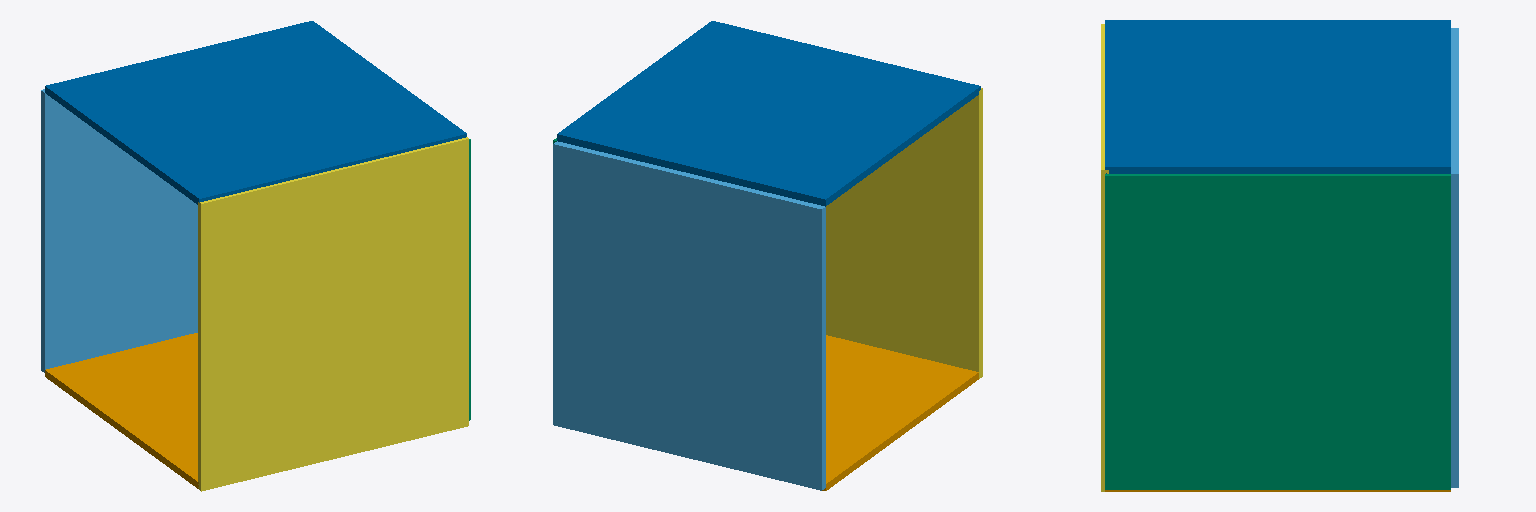
The robot description file, URDF, robot "hollow_box_with_top_cover":
<robot name="hollow_box_with_top_cover">

  <link name="base_panel">
    <visual>
      <geometry>
        <box size="2.7 2.7 0.068" />
      </geometry>
    </visual>
    <material name="red">
      <color rgba="1 0 0 1" />
    </material>
    <collision>
      <geometry>
        <box size="2.0 2.0 0.05" />
      </geometry>
    </collision>
    <inertial>
      <mass value="1.0" />
      <origin xyz="0 0 0.025" rpy="0 0 0" />
      <inertia ixx="0.0833333" ixy="0" ixz="0" iyy="0.0833333" iyz="0" izz="0.0833333" />
    </inertial>
  </link>


  <link name="back_panel">
    <visual>
      <geometry>
        <box size="2.7 0.068 2.7" />
      </geometry>
    </visual>
    <material name="yellow">
      <color rgba="1 1 0 1" />
    </material>
    <collision>
      <geometry>
        <box size="2.0 0.05 2.0" />
      </geometry>
    </collision>
    <inertial>
      <mass value="1.0" />
      <origin xyz="0 1.025 1.0" rpy="0 0 0" />
      <inertia ixx="0.0833333" ixy="0" ixz="0" iyy="0.0833333" iyz="0" izz="0.0833333" />
    </inertial>
  </link>


  <link name="left_panel">
    <visual>
      <geometry>
        <box size="0.068 2.7 2.7" />
      </geometry>
    </visual>
    <material name="purple">
      <color rgba="1 0.5 1 1" />
    </material>
    <collision>
      <geometry>
        <box size="0.05 2.0 2.0" />
      </geometry>
    </collision>
    <inertial>
      <mass value="1.0" />
      <origin xyz="-1.0025 0 1.0" rpy="0 0 0" />
      <inertia ixx="0.0833333" ixy="0" ixz="0" iyy="0.0833333" iyz="0" izz="0.0833333" />
    </inertial>
  </link>


  <link name="right_panel">
    <visual>
      <geometry>
        <box size="2.7 0.068 2.768" />
      </geometry>
    </visual>
    <material name="orange">
      <color rgba="1 0.5 0 1" />
    </material>
    <collision>
      <geometry>
        <box size="0.05 2.0 2.0" />
      </geometry>
    </collision>
    <inertial>
      <mass value="1.0" />
      <origin xyz="1.0025 0 1.0" rpy="0 0 0" />
      <inertia ixx="0.0833333" ixy="0" ixz="0" iyy="0.0833333" iyz="0" izz="0.0833333" />
    </inertial>
  </link>


  <link name="top_panel">
    <visual>
      <geometry>
        <box size="2.7 2.7 0.068" />
      </geometry>
    </visual>
    <material name="blue">
      <color rgba="0 0 1 1" />
    </material>
    <collision>
      <geometry>
        <box size="2.0 2.0 0.05" />
      </geometry>
    </collision>
    <inertial>
      <mass value="1.0" />
      <origin xyz="0 0 2.025" rpy="0 0 0" />
      <inertia ixx="0.0833333" ixy="0" ixz="0" iyy="0.0833333" iyz="0" izz="0.0833333" />
    </inertial>
  </link>


  <joint name="back_joint" type="fixed">
    <parent link="base_panel" />
    <child link="back_panel" />
    <origin xyz="0.0 1.384 1.35" rpy="0 0 0" />
  </joint>

  <joint name="left_joint" type="fixed">
    <parent link="base_panel" />
    <child link="left_panel" />
    <origin xyz="1.353 0.0 1.35" rpy="0 0 0" />
  </joint>

  <joint name="right_joint" type="fixed">
    <parent link="base_panel" />
    <child link="right_panel" />
    <origin xyz="0.0 -1.35 1.35" rpy="0 0 0" />
  </joint>


  <joint name="top_joint" type="fixed">
    <parent link="base_panel" />
    <child link="top_panel" />
    <origin xyz="0.0 0.0 2.734" rpy="0 0 0" />
  </joint>


</robot>

--- What the picture shows (computed from the rendered views, not written in the file) ---
3 views of the same robot in one strip: view 1: azimuth 30°, elevation 25°; view 2: azimuth 150°, elevation 25°; view 3: azimuth 270°, elevation 25° (orthographic).
Robot: hollow_box_with_top_cover — 5 links, 4 joints (4 fixed); root link base_panel; default pose: every joint at zero.
Visible links, largest first — view 1: right_panel, top_panel, back_panel, base_panel, left_panel; view 2: back_panel, top_panel, right_panel, base_panel; view 3: left_panel, top_panel, back_panel, right_panel, base_panel.
Boxes of the visible links, x1,y1,x2,y2 form: right_panel: [198, 137, 468, 491]; top_panel: [45, 21, 466, 204]; back_panel: [41, 89, 197, 372]; base_panel: [45, 333, 198, 488]; left_panel: [469, 139, 470, 420]; back_panel: [553, 141, 825, 490]; top_panel: [557, 21, 980, 206]; right_panel: [826, 88, 982, 378]; base_panel: [822, 335, 978, 490]; left_panel: [1105, 174, 1450, 489]; top_panel: [1105, 20, 1450, 173]; back_panel: [1451, 28, 1458, 487]; right_panel: [1101, 24, 1108, 491]; base_panel: [1105, 490, 1450, 491].
Size in the robot's own frame: 2.74 by 2.8 by 2.8 metres.
Geometry: primitives only (box / cylinder / sphere), no mesh files.